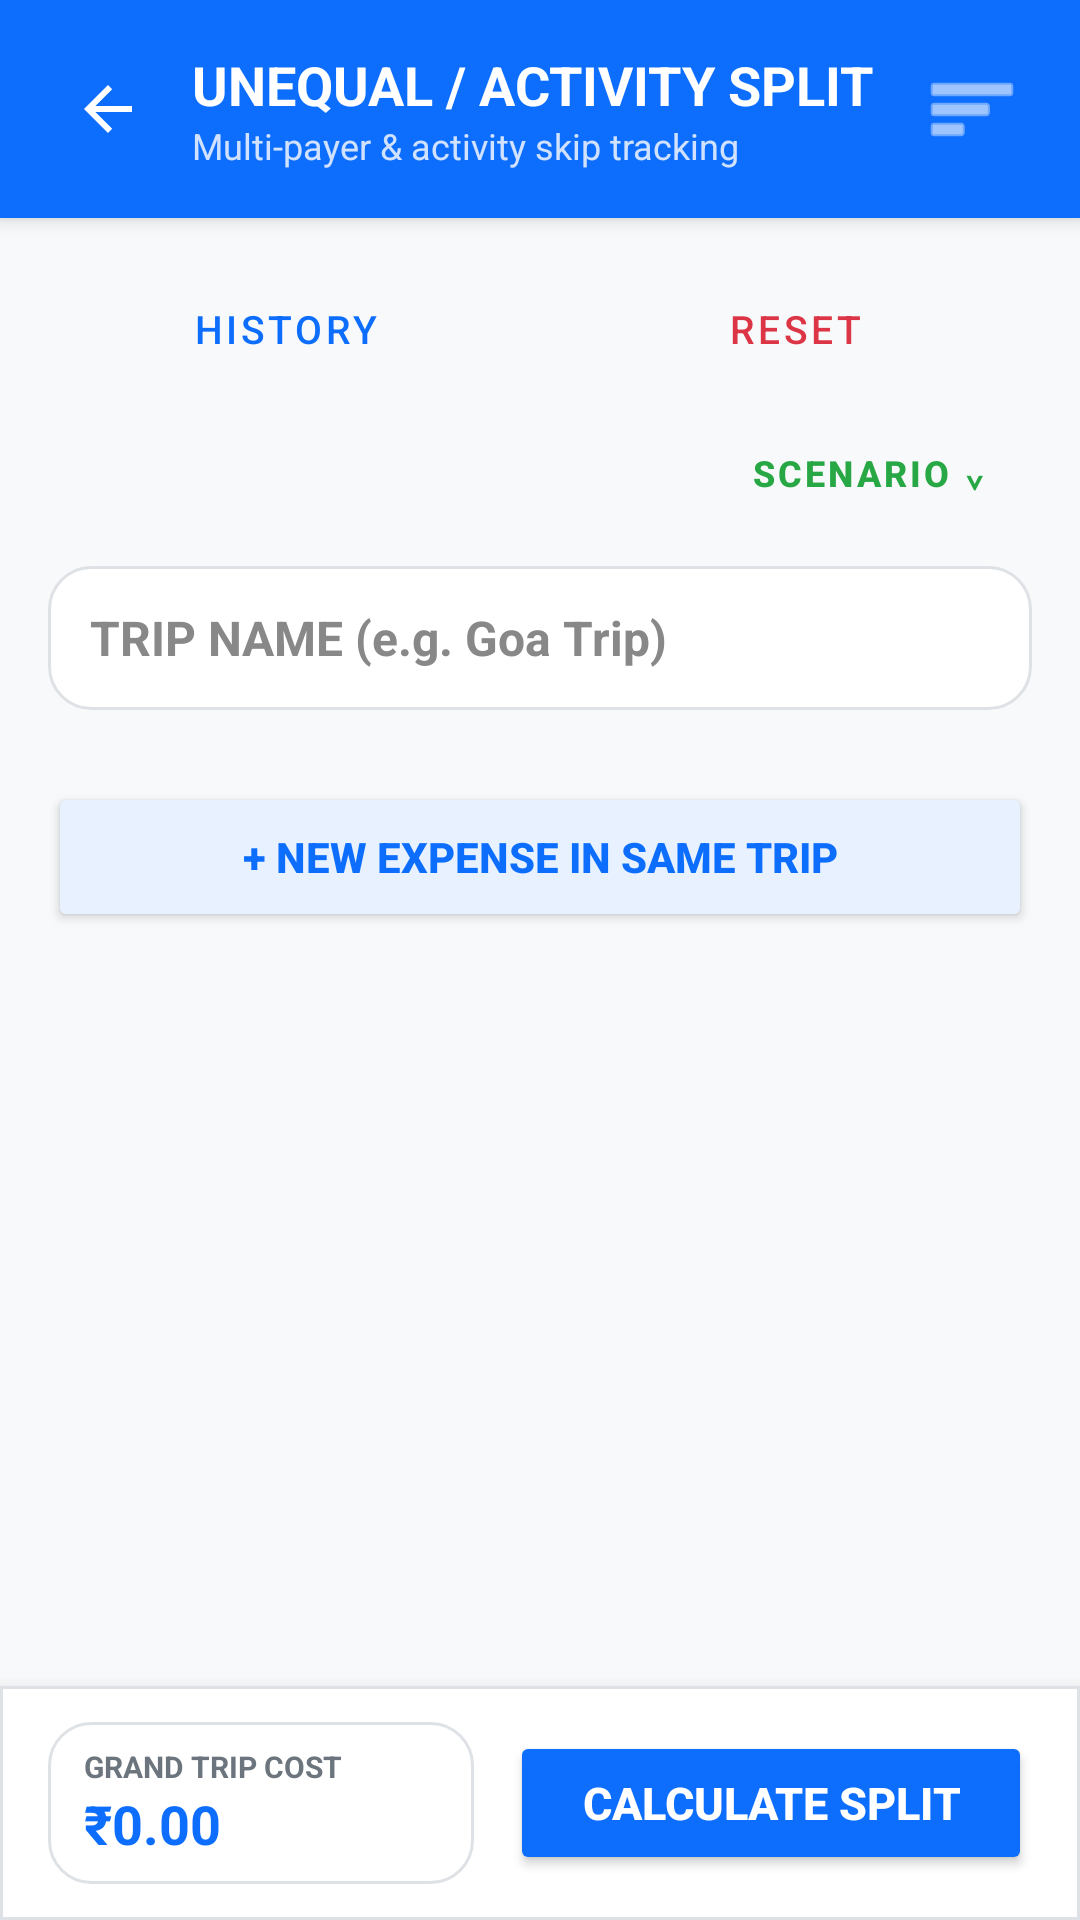

Icon bounding boxes for this 1080×1920 phone screenshot, format (x1, y1, x2, y2):
Back: (84, 85, 132, 133)
Menu: (931, 83, 1013, 136)
